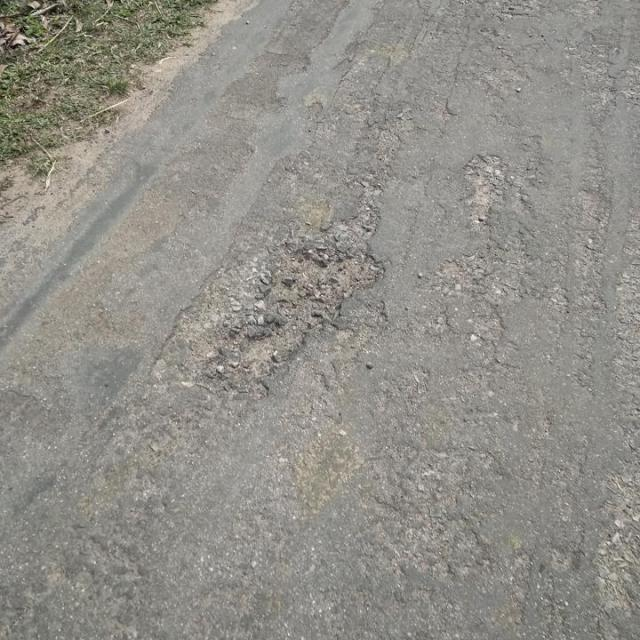Pothole: (211, 242, 390, 394), (462, 152, 512, 223)
